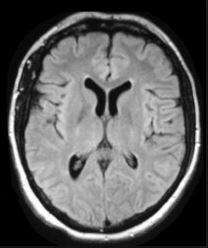Normal_Brain: (1, 1, 208, 248)
